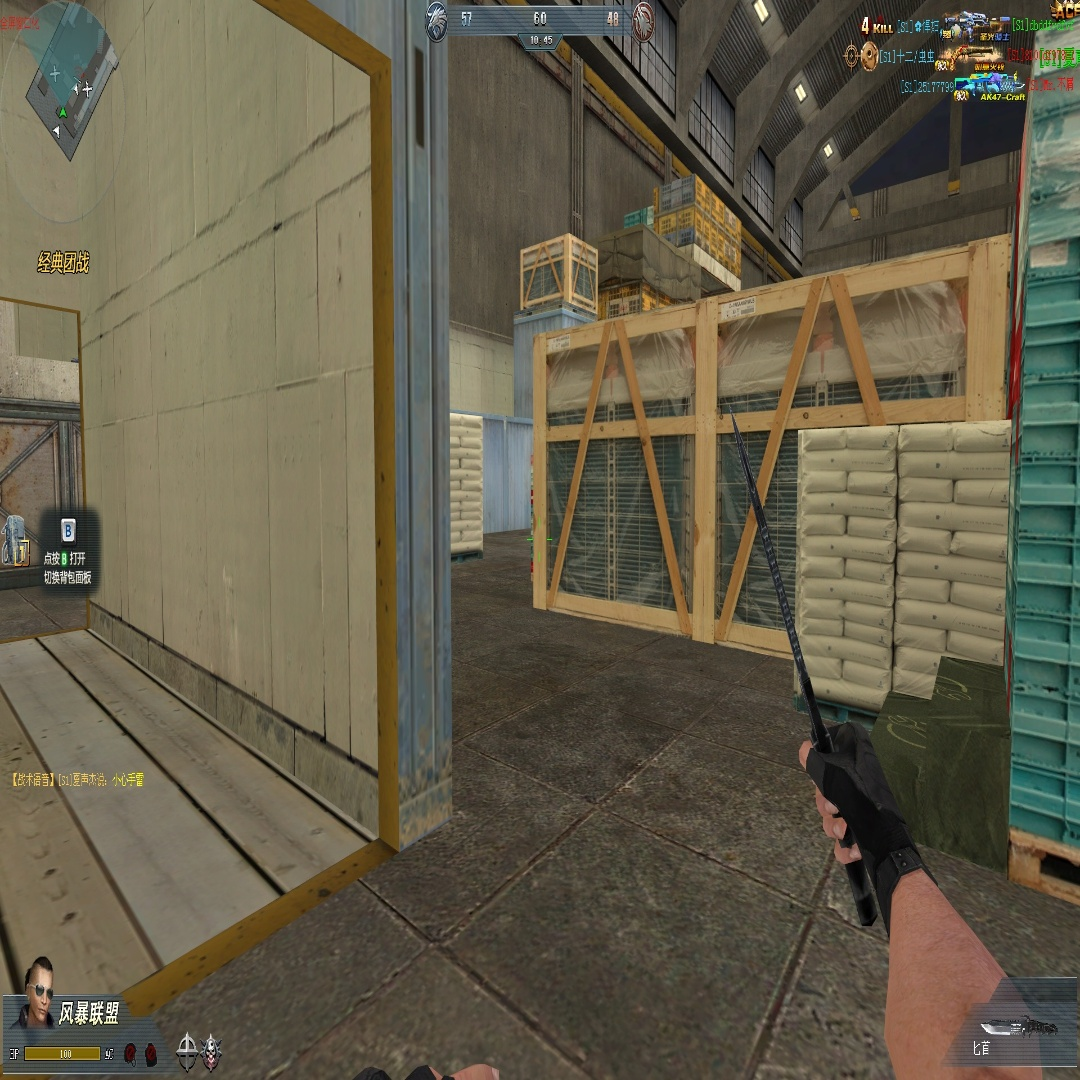ct: (19, 956, 55, 1028)
